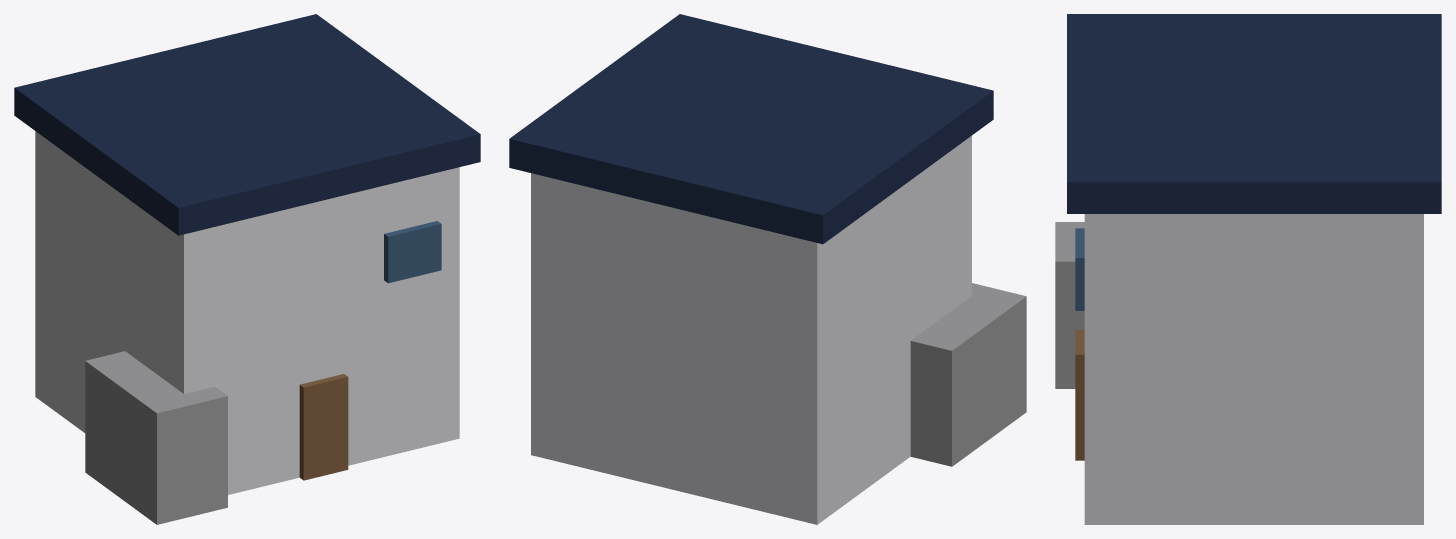
Rendered from house_2025.glb.
3 renders of one model, left to right at view 1: azimuth 30°, elevation 25°; view 2: azimuth 150°, elevation 25°; view 3: azimuth 270°, elevation 25°, orthographic. The views are drawn at different scales.
Parts seen in each view (by area): view 1: Walls, Roof, Garage, Door, Window; view 2: Walls, Roof, Garage; view 3: Walls, Roof, Garage, Door, Window.
Part boxes in pixels (box(x1,y1,x2,y2)): Walls: box(35, 131, 459, 494); Roof: box(14, 14, 480, 235); Garage: box(85, 351, 227, 524); Door: box(299, 374, 348, 480); Window: box(384, 221, 441, 283); Walls: box(531, 135, 971, 524); Roof: box(509, 14, 993, 244); Garage: box(910, 283, 1026, 466); Walls: box(1084, 214, 1423, 524); Roof: box(1067, 14, 1441, 213); Garage: box(1055, 222, 1084, 388); Door: box(1075, 329, 1084, 460); Window: box(1075, 228, 1084, 310).
Size of the model in its own units: 0.74 by 0.66 by 0.66.
